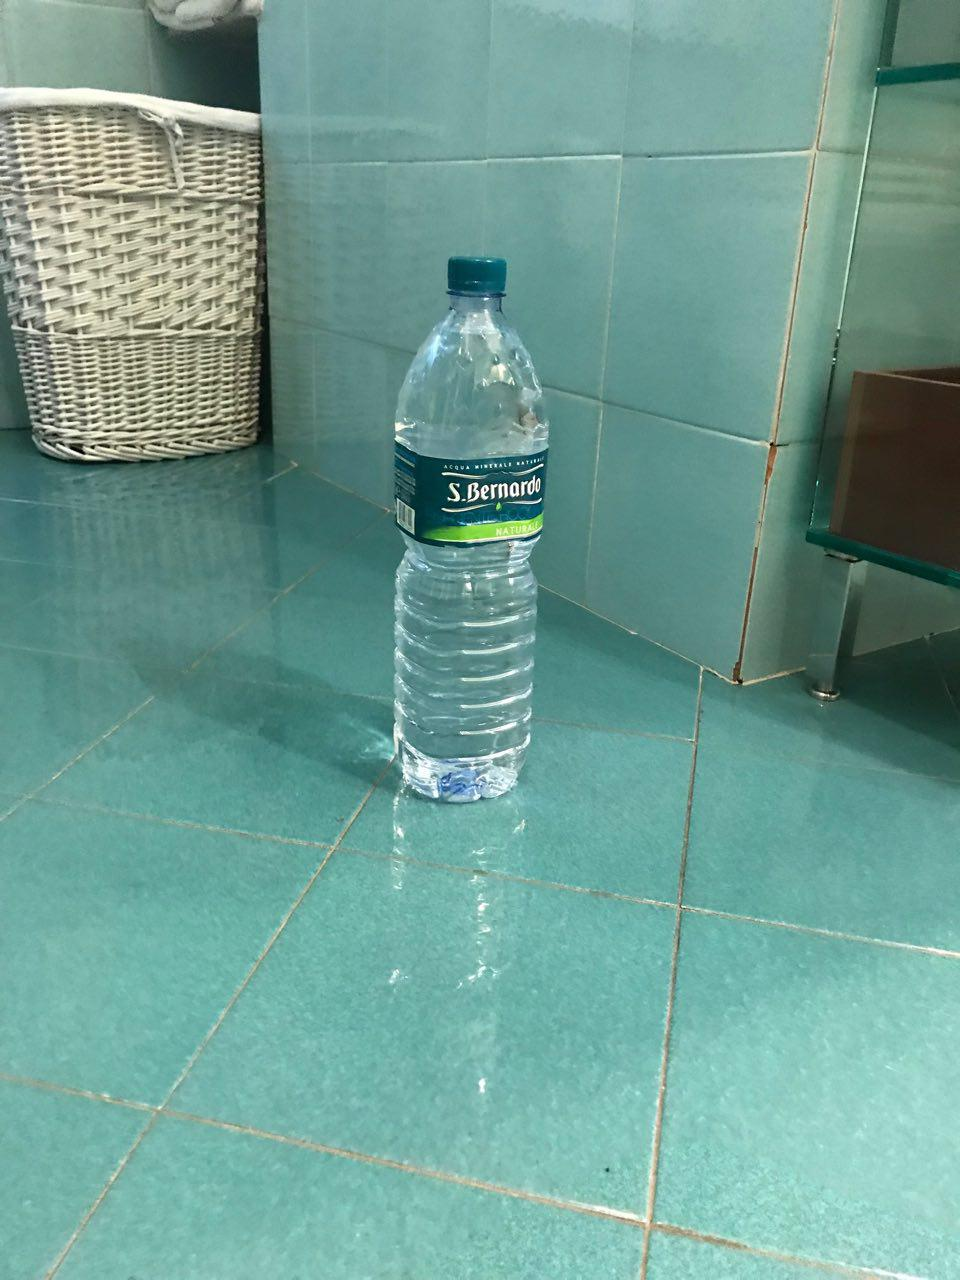san_bernardo: (393, 255, 549, 805)
